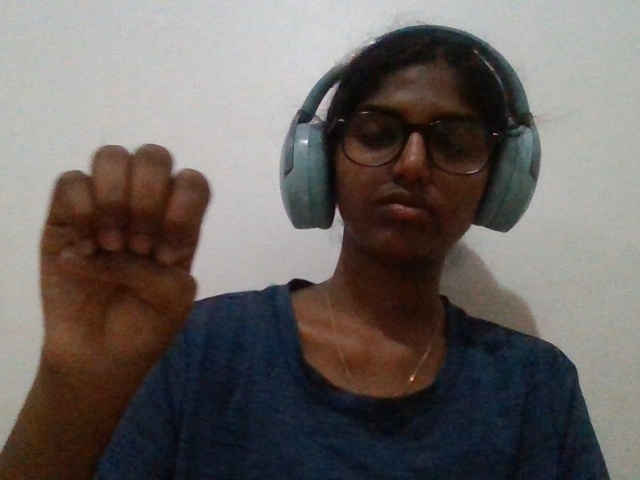E: (14, 126, 259, 453)
